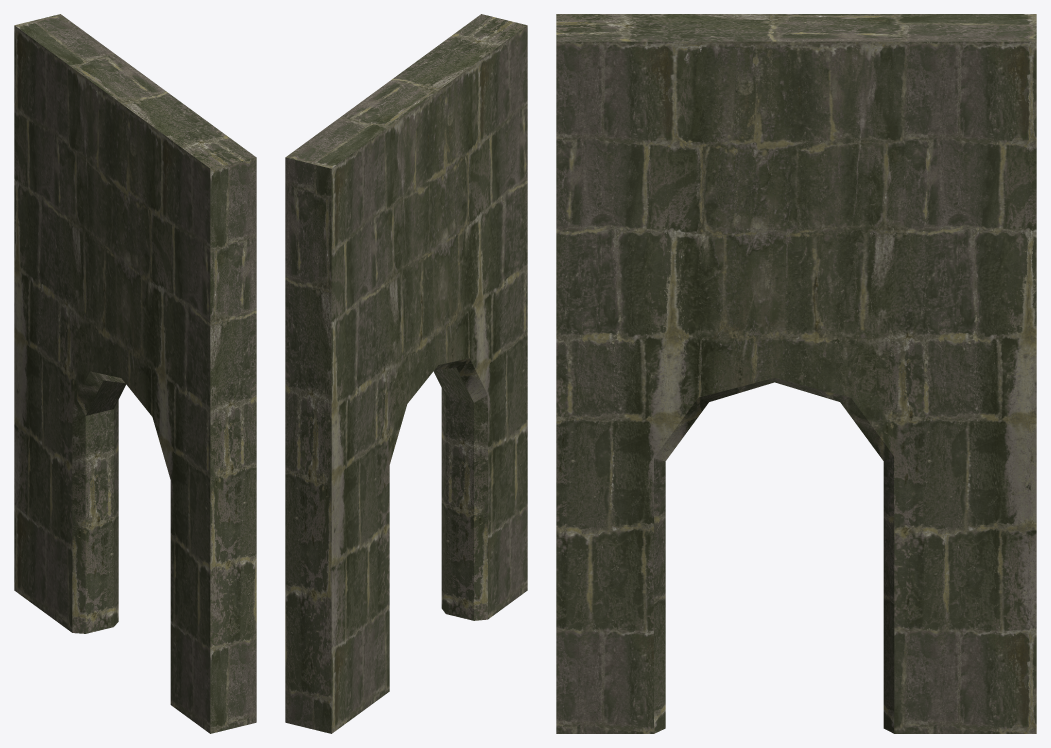
File: VerticalHalfWall_R_Doorway.fbx
The picture shows the model from 3 angles, left to right: view 1: azimuth 30°, elevation 25°; view 2: azimuth 150°, elevation 25°; view 3: azimuth 270°, elevation 25°; orthographic projection. The views are drawn at different scales.
Visible parts, largest first — view 1: VerticalHalfWall_R_Doorway; view 2: VerticalHalfWall_R_Doorway; view 3: VerticalHalfWall_R_Doorway.
Boxes of the visible parts, box(x1,y1,x2,y2) form: VerticalHalfWall_R_Doorway: box(14, 14, 256, 733); VerticalHalfWall_R_Doorway: box(285, 14, 527, 733); VerticalHalfWall_R_Doorway: box(556, 14, 1036, 733).
Bounding box in the file's own units: 51 × 595 × 374.
